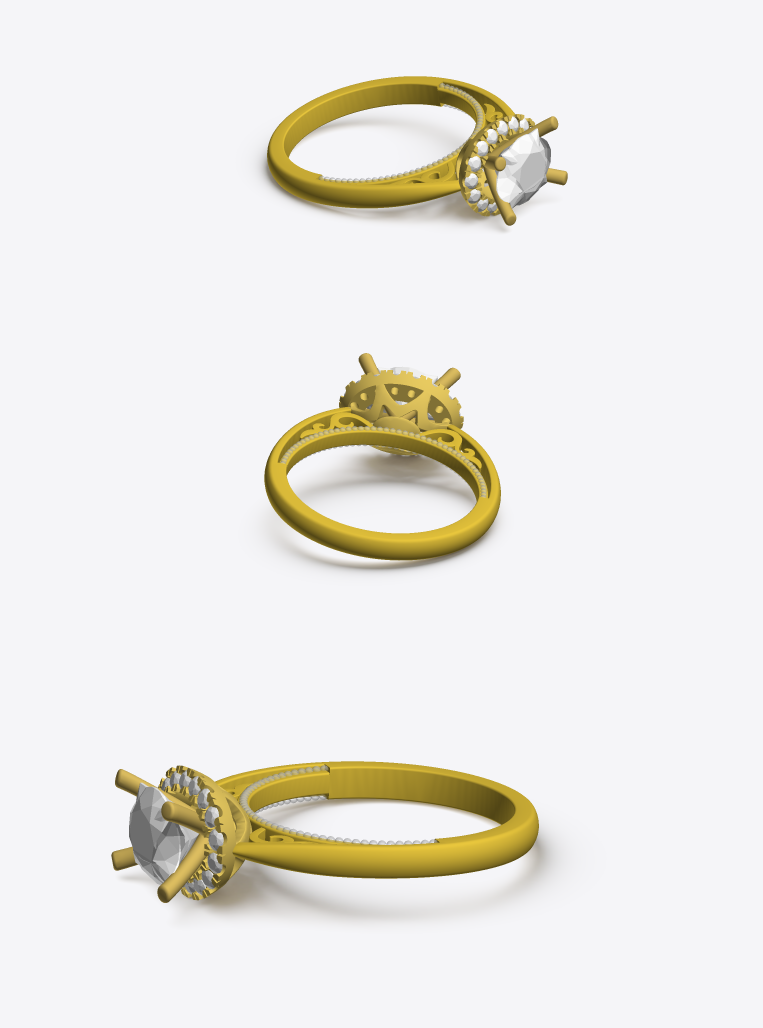
File: ring_ver3_3gem.glb
3 renders of one model, top to bottom at view 1: azimuth 30°, elevation 25°; view 2: azimuth 150°, elevation 25°; view 3: azimuth 270°, elevation 25°, orthographic. The views are drawn at different scales.
Visible parts, largest first — view 1: gold_buttom, Plane_alpha, gold_mid, gold_top, gem_top_round, gem_mid, gem_buttom, gem_top_oval, gem_top_square; view 2: gold_buttom, Plane_alpha, gold_mid, gem_buttom, gold_top; view 3: gold_buttom, Plane_alpha, gold_mid, gold_top, gem_top_round, gem_buttom, gem_mid, gem_top_oval, gem_top_square.
Boxes of the visible parts, <box> form: gold_buttom: <box>267,76,515,208</box>; Plane_alpha: <box>252,113,553,233</box>; gold_mid: <box>455,114,534,216</box>; gold_top: <box>483,116,567,225</box>; gem_top_round: <box>497,134,545,205</box>; gem_mid: <box>464,116,531,213</box>; gem_buttom: <box>319,83,483,182</box>; gem_top_oval: <box>496,137,550,202</box>; gem_top_square: <box>495,128,547,208</box>; gold_buttom: <box>264,407,500,560</box>; Plane_alpha: <box>257,445,504,576</box>; gold_mid: <box>339,370,463,455</box>; gem_buttom: <box>280,426,486,497</box>; gold_top: <box>358,353,460,432</box>; gold_buttom: <box>191,761,538,878</box>; Plane_alpha: <box>118,796,572,926</box>; gold_mid: <box>158,765,252,900</box>; gold_top: <box>111,769,208,902</box>; gem_top_round: <box>129,786,189,884</box>; gem_buttom: <box>239,765,437,844</box>; gem_mid: <box>161,770,223,895</box>; gem_top_oval: <box>129,801,185,875</box>; gem_top_square: <box>133,782,198,882</box>.
Bounding box in the file's own units: 50.36 × 9.01 × 50.36.
9 materials, 1 textured.
